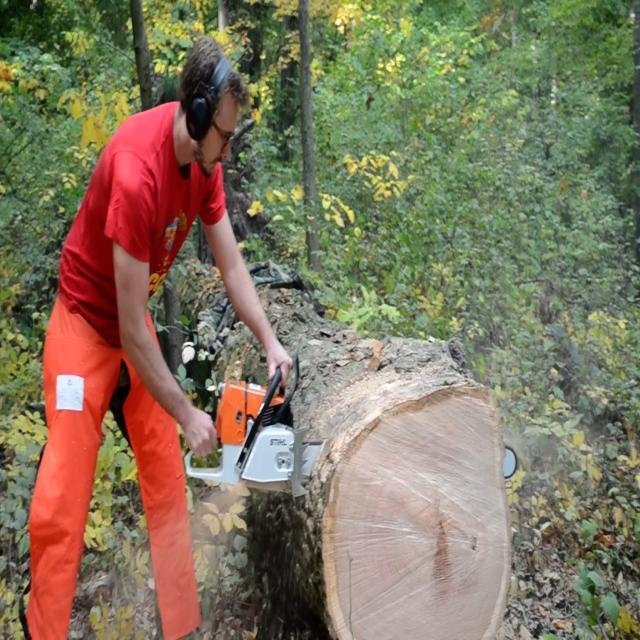Chainsaw: (163, 328, 530, 516)
